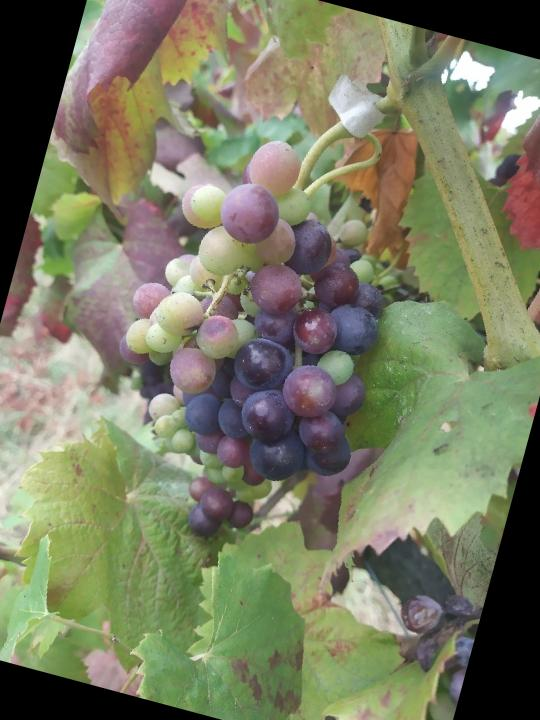grape: (75, 107, 436, 571)
